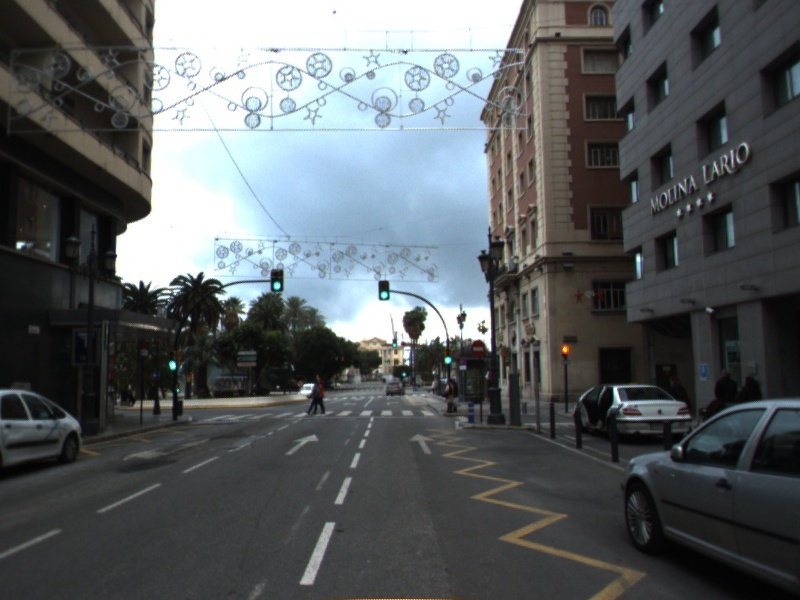STRAIGHT: (283, 432, 321, 457), (406, 431, 437, 456)
STRAIGHT_LEFT: (121, 436, 211, 464)
